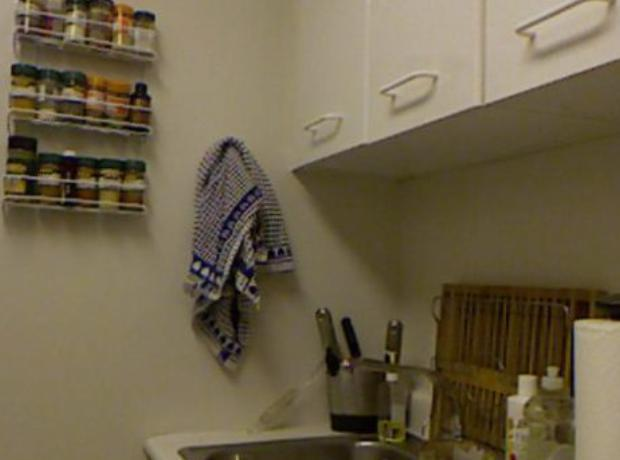Lavaplatos: (166, 322, 496, 460)
